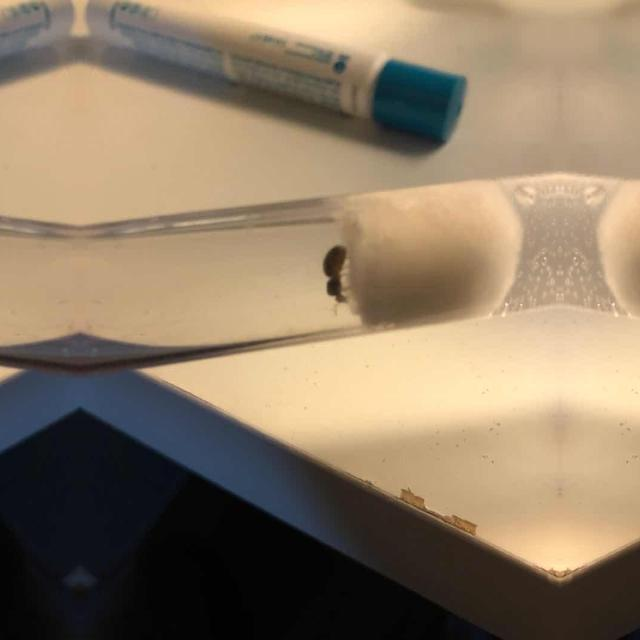Lasius: (318, 230, 364, 316)
